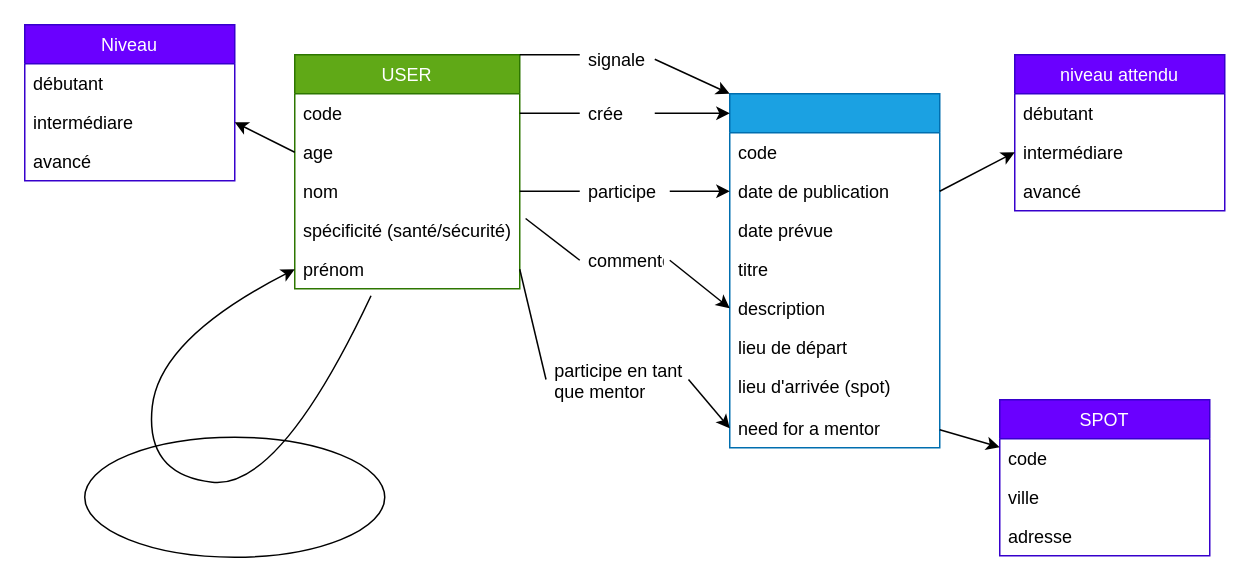
Image size: 1250x582. Some labels were removed from this diagram. The box of each missing label's shape, as (x1, y1, x2, y2) in pixels:
EVENT: (728, 92, 940, 448)
évaluation (note donnée à un autre user): (83, 436, 385, 557)
